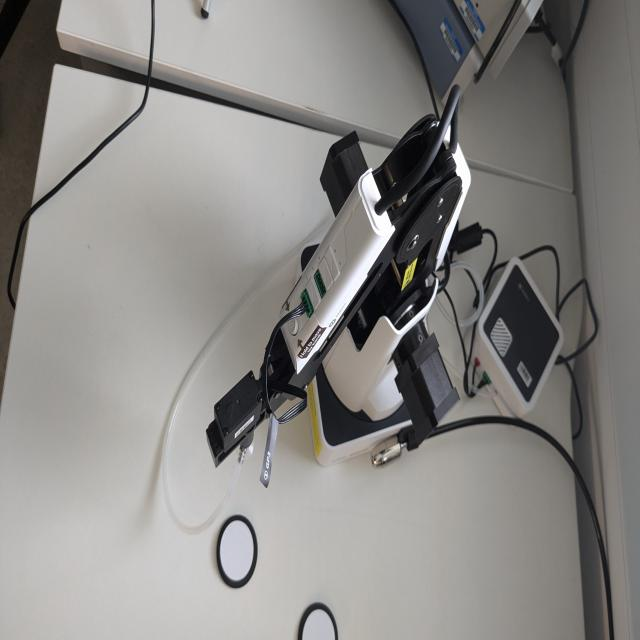Robot-end-effector-HF8z: (196, 367, 266, 473)
